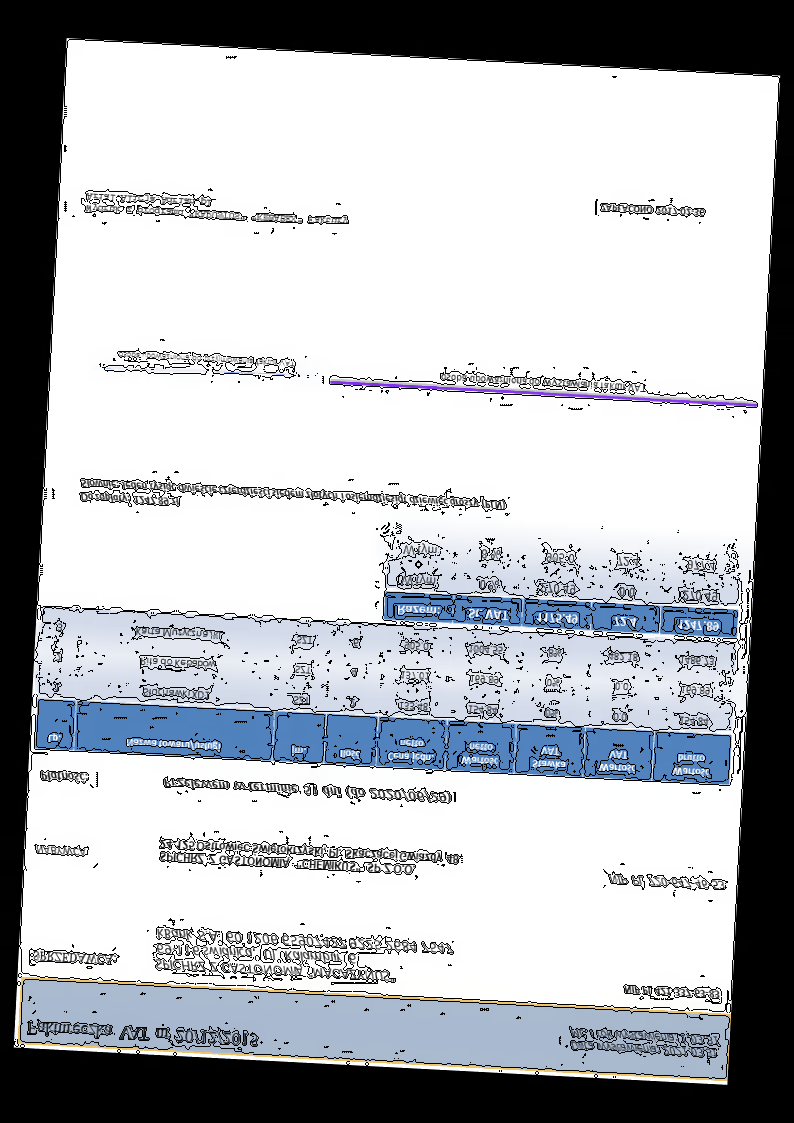Table: (33, 607, 737, 787), (382, 527, 743, 639)
TextBox: (77, 474, 507, 527), (150, 923, 457, 989), (155, 834, 461, 881), (82, 190, 352, 228), (162, 776, 453, 805), (25, 1018, 260, 1050), (568, 1024, 721, 1062), (438, 369, 649, 395), (116, 349, 297, 371), (606, 871, 727, 893), (621, 982, 723, 1003), (597, 201, 706, 220), (29, 946, 119, 968), (34, 843, 91, 860), (37, 768, 90, 786)
